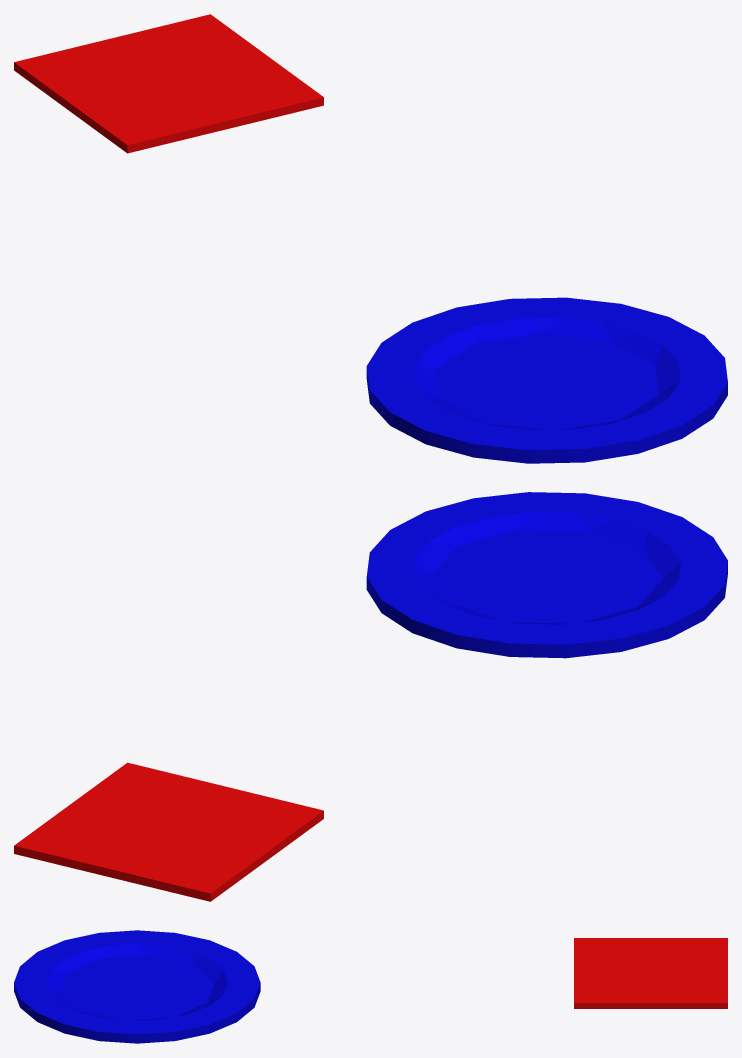
The model's file is nori_low_explosion.fbx.
The picture shows the model from 3 angles, top to bottom: view 1: azimuth 30°, elevation 25°; view 2: azimuth 150°, elevation 25°; view 3: azimuth 270°, elevation 25°; orthographic projection. The views are drawn at different scales.
Parts seen in each view (by area): view 1: polySurface2, polySurface3; view 2: polySurface2, polySurface3; view 3: polySurface2, polySurface3.
Boxes of the visible parts, box(x1,y1,x2,y2) form: polySurface2: box(366, 297, 727, 463); polySurface3: box(14, 14, 323, 153); polySurface2: box(366, 492, 727, 658); polySurface3: box(14, 762, 323, 901); polySurface2: box(14, 930, 260, 1043); polySurface3: box(574, 938, 727, 1008).
Size of the model in its own units: 0.48 by 0.0448 by 1.39.
